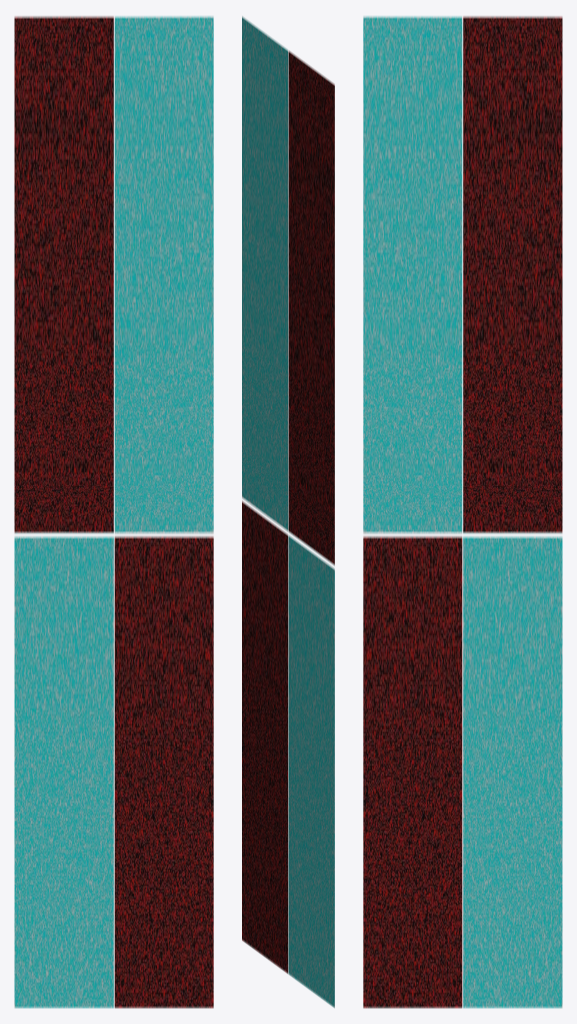
3 renders of one model, left to right at view 1: azimuth 90°, elevation 25°; view 2: azimuth 210°, elevation 25°; view 3: azimuth 270°, elevation 25°, orthographic. The views are drawn at different scales.
Visible parts, largest first — view 1: SM_VFX_XPlane_Subdivided_LOD0; view 2: SM_VFX_XPlane_Subdivided_LOD0; view 3: SM_VFX_XPlane_Subdivided_LOD0.
Boxes of the visible parts, box(x1,y1,x2,y2) form: SM_VFX_XPlane_Subdivided_LOD0: box(14, 16, 213, 1008); SM_VFX_XPlane_Subdivided_LOD0: box(242, 16, 334, 1007); SM_VFX_XPlane_Subdivided_LOD0: box(363, 16, 562, 1008).
Size of the model in its own units: 0 by 41.63 by 7.54.
Materials: 1 (1 with a texture image).
